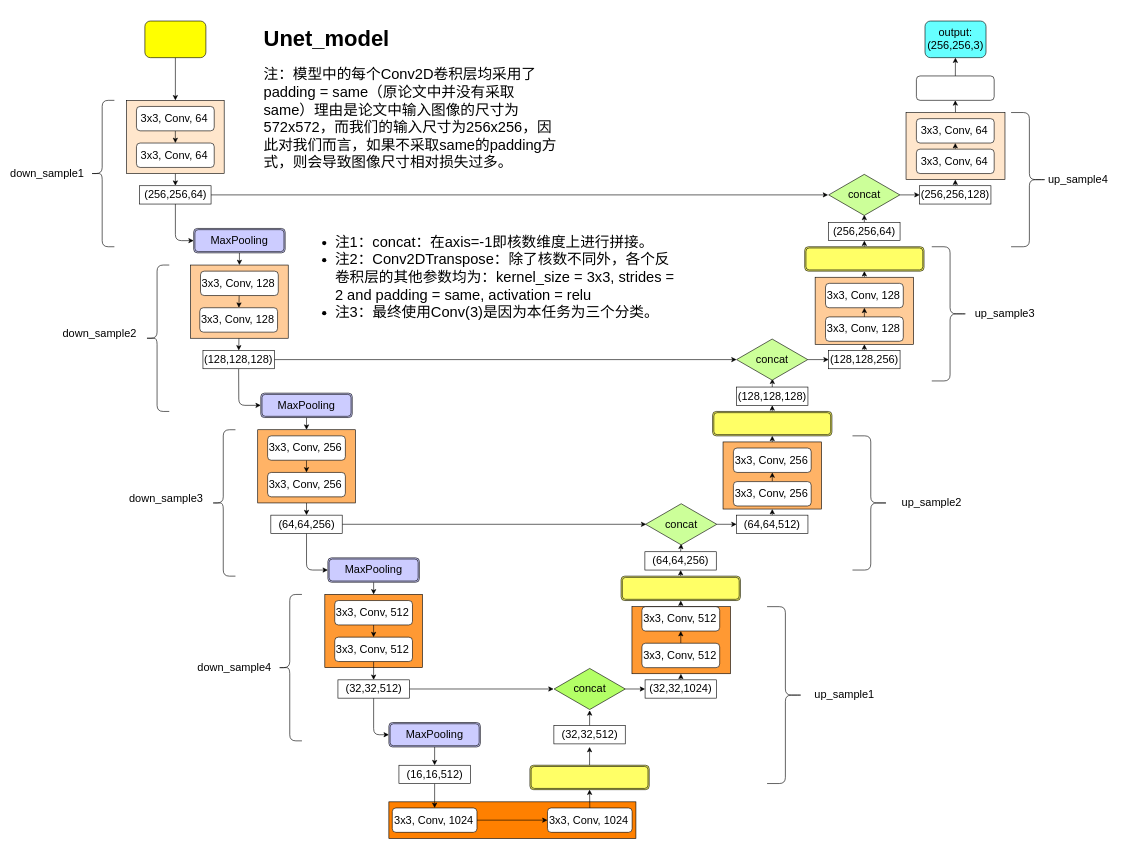
This 1125x849 diagram has some shape labels left out. The shapes that lost their labels are listed below. From the top down, each one's box as (x1, y1, x2, y2) in pixels, then its label:
(144, 20, 206, 58): input: (256,256,3)
(916, 75, 994, 100): 3x3, Conv, 3
(804, 246, 924, 271): Con2DTranspose(64)
(712, 411, 832, 436): Con2DTranspose(128)
(620, 576, 740, 601): Con2DTranspose(256)
(529, 765, 649, 790): Con2DTranspose(512)
